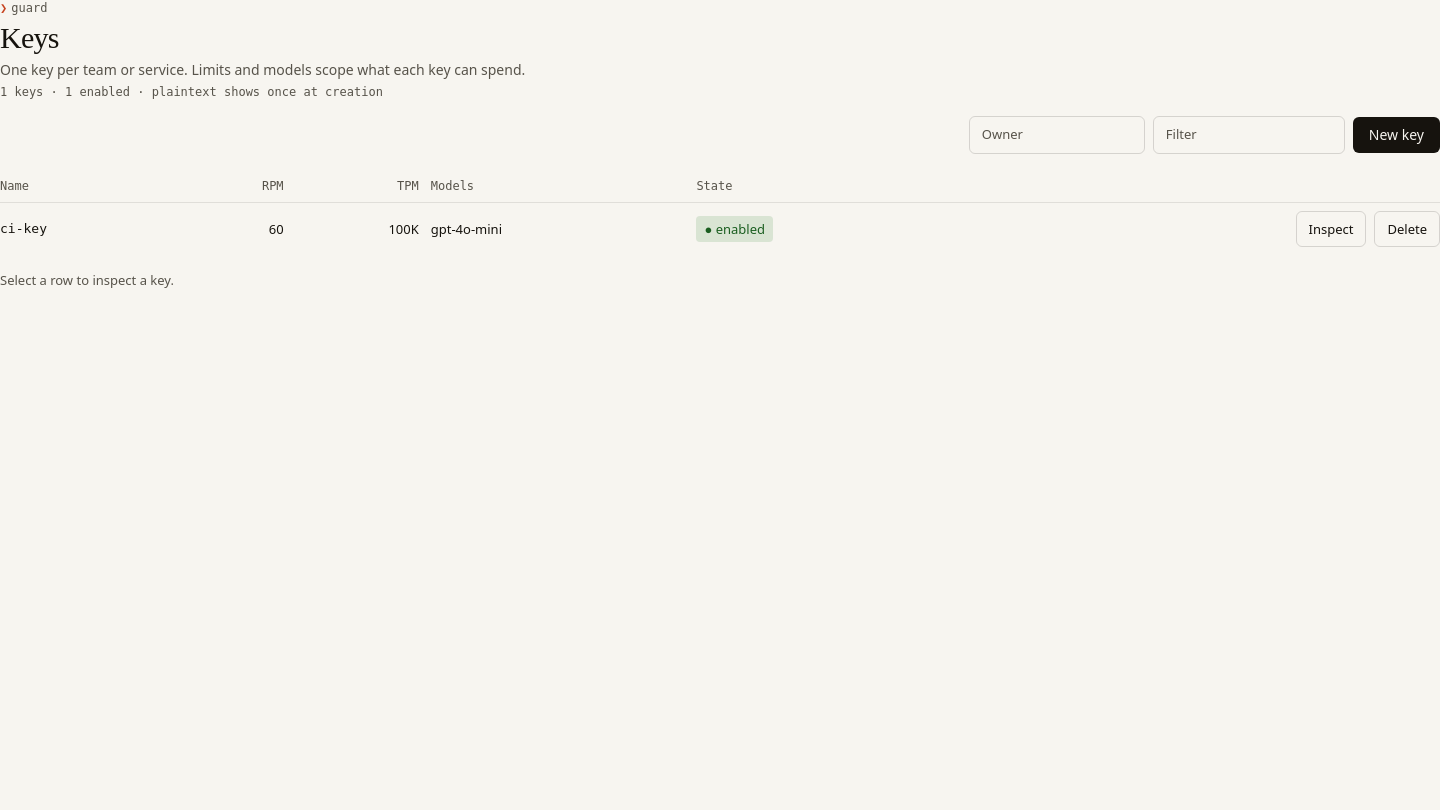
KeysPage › renders tool and agent policy pairs in the inspector
Click the button with aria-label "inspect key ci-key" at (1331,229), box [1296, 210, 1366, 247]
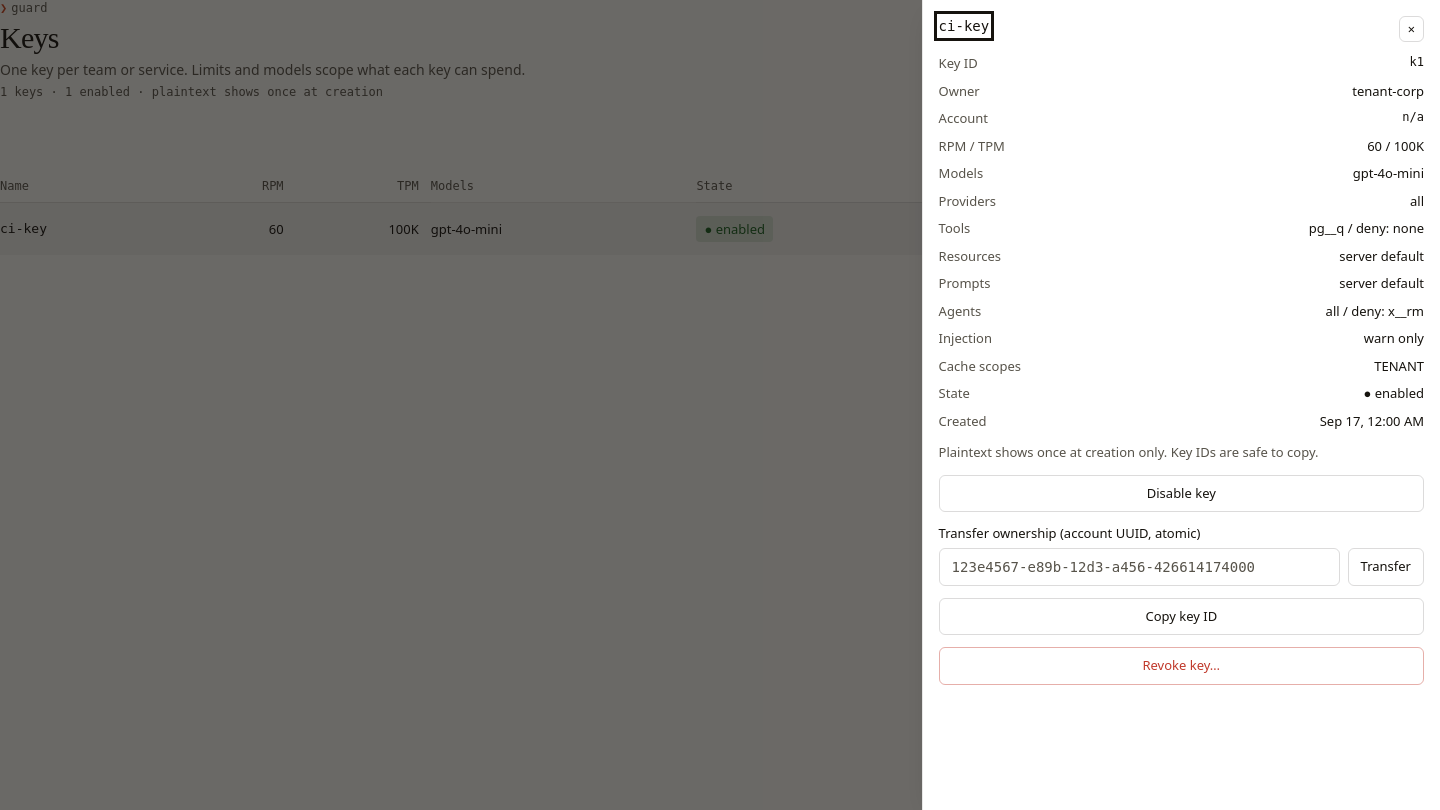
Check: the text "pg__q / deny: none" is shown, box [1309, 219, 1424, 238]
Check: the text "all / deny: x__rm" is shown, box [1326, 302, 1424, 321]
Check: the text "warn only" is shown, box [1364, 329, 1424, 348]
